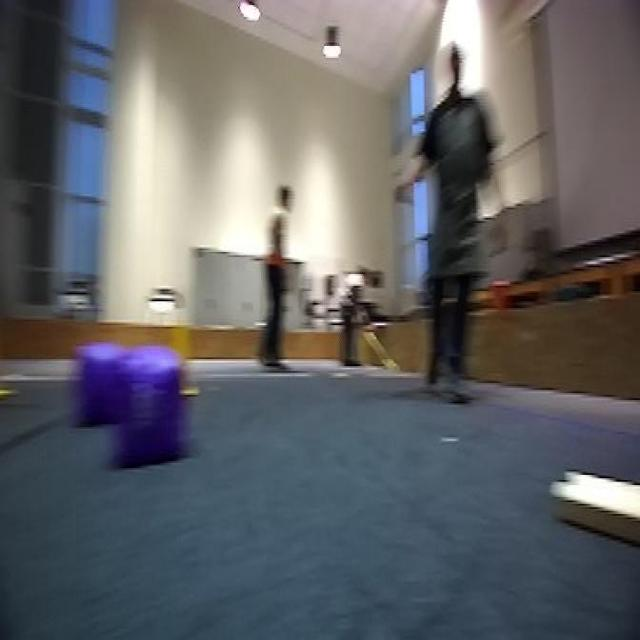frc_cone: (163, 322, 194, 400)
frc_cube: (118, 349, 183, 461), (81, 342, 128, 424)
